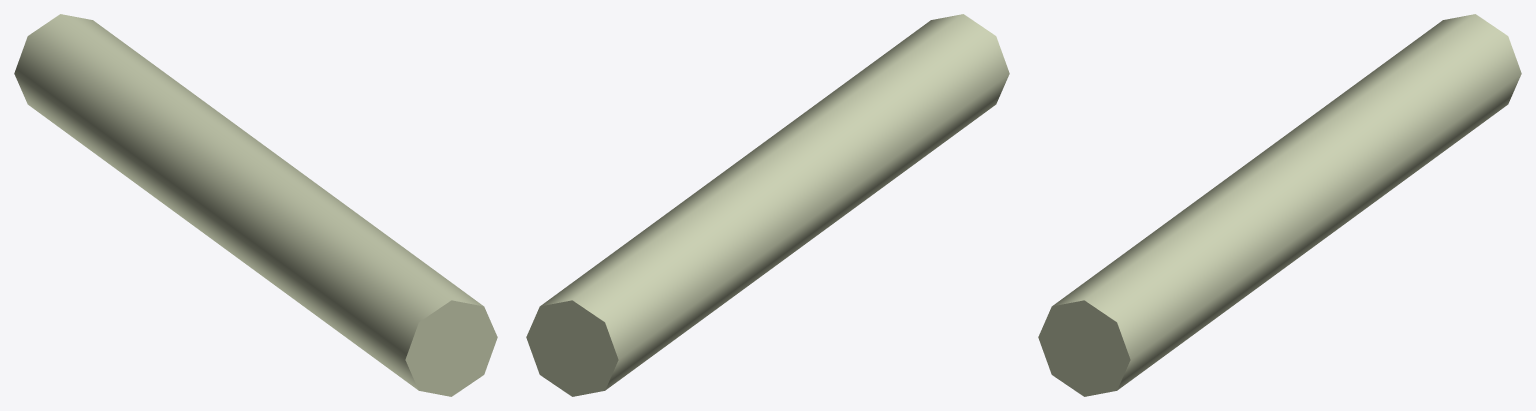
Rendered from vela_landing_leg_srf_1_piston_lower.obj.
The picture shows the model from 3 angles, left to right: view 1: azimuth 30°, elevation 25°; view 2: azimuth 150°, elevation 25°; view 3: azimuth 330°, elevation 25°; orthographic projection.
Parts seen in each view (by area): view 1: piston_lower; view 2: piston_lower; view 3: piston_lower.
Part boxes in pixels (x1,y1,x2,y2): piston_lower: (14,14,497,396); piston_lower: (526,14,1009,396); piston_lower: (1038,14,1521,396).
Size of the model in its own units: 0.0375 by 0.0375 by 0.275.
